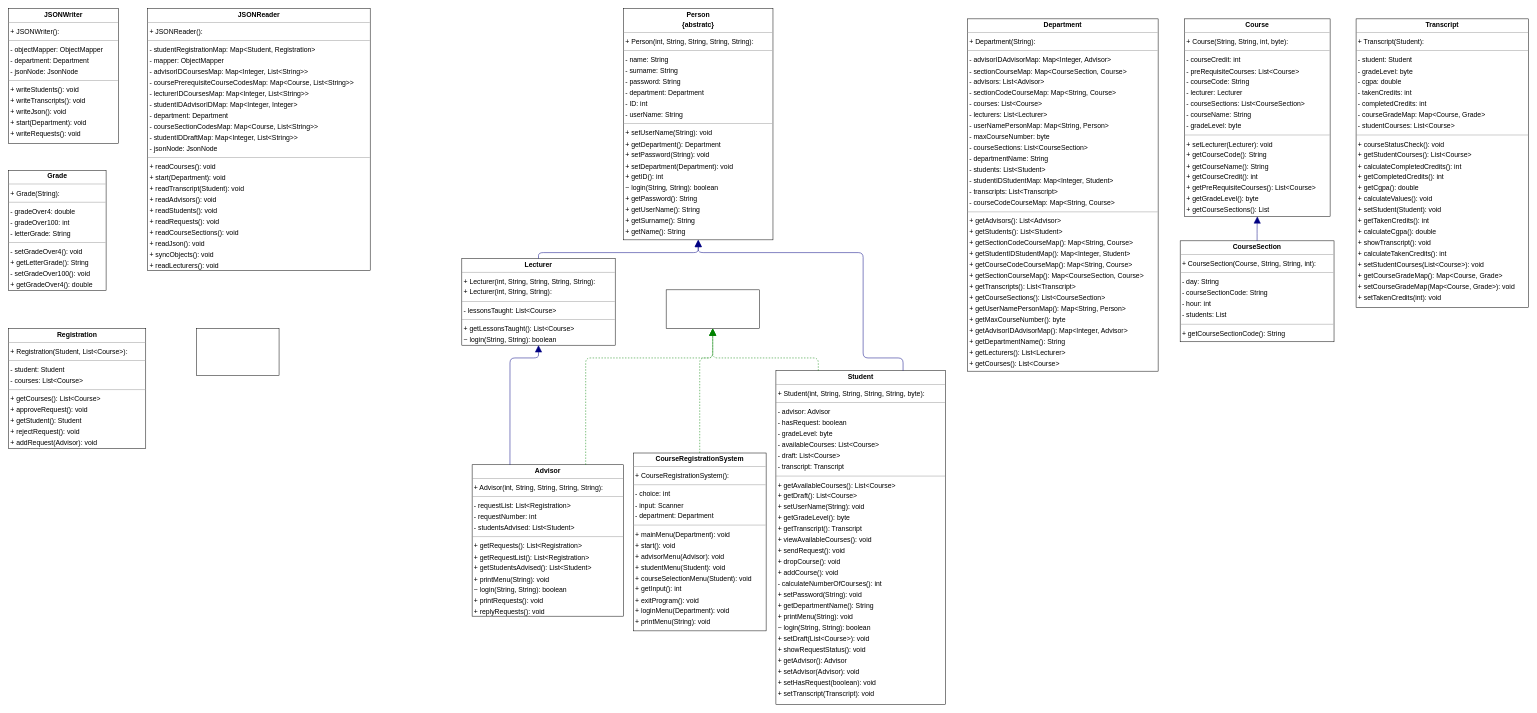
The diagram is 1537 pixels wide and 713 high, and some of its shapes have lost their labels. Here are the shapes that lost their labels. From the top down, the centre of each, then its label:
[712,309]: <<interface>> IDisplayMenu + printMenu(String): void
[237,352]: main + main(): + main(String[]): void
